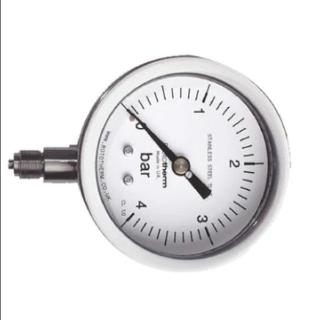gauge: (55, 33, 307, 296), (121, 103, 147, 133), (122, 202, 142, 226), (170, 156, 190, 176), (122, 105, 134, 116)
